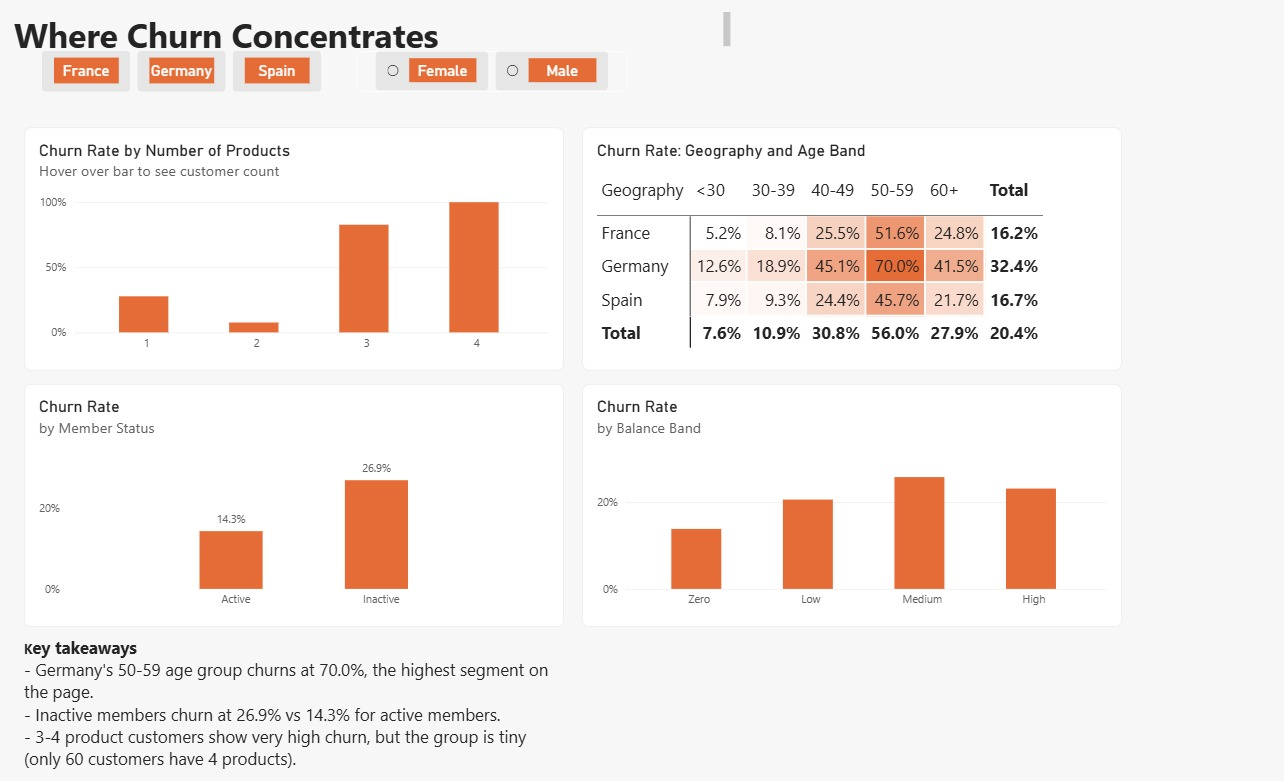

What the dashboard file says about the page in this screenshot:
{"tool":"powerbi","page":{"name":"Page 2","canvas":[1920,1080],"ordinal":1},"visuals":[{"type":"textbox","box":[18.3,16.7,796.7,43.3],"z":0},{"type":"clusteredColumnChart","title":"Churn Rate by Number of Products","fields":{"Category":["Customers.NumOfProducts"],"Y":["Customers.Churn Rate"]},"box":[30,145,600,270],"z":1000},{"type":"clusteredColumnChart","fields":{"Category":["Customers.Member Status"],"Y":["Customers.Churn Rate"]},"box":[30,430,600,270],"z":2000},{"type":"clusteredColumnChart","fields":{"Category":["Customers.Balance Band"],"Y":["Customers.Churn Rate"]},"box":[650,430,600,270],"z":3000},{"type":"pivotTable","title":"Churn Rate: Geography and Age Band ","fields":{"Rows":["Customers.Geography"],"Columns":["Customers.Age Band"],"Values":["Customers.Churn Rate"]},"box":[650,145,600,270],"z":3001},{"type":"advancedSlicerVisual","fields":{"Values":["Customers.Geography"]},"box":[30,60,350,45],"z":3002},{"type":"advancedSlicerVisual","fields":{"Values":["Customers.Gender"]},"box":[400,60,300,45],"z":3003},{"type":"textbox","box":[30,710,600,270],"z":3004}]}

Visuals, with their boxes on the page's 1920x1080 design canvas (x1, y1, x2, y2). These are canvas units, not pixel positions in the 1284x781 screenshot, which may show the page scaled, cropped or inside an application window:
textbox: 18 17 815 60
"Churn Rate by Number of Products" clusteredColumnChart: 30 145 630 415
clusteredColumnChart - Customers.Member Status x Customers.Churn Rate: 30 430 630 700
clusteredColumnChart - Customers.Balance Band x Customers.Churn Rate: 650 430 1250 700
"Churn Rate: Geography and Age Band " pivotTable: 650 145 1250 415
advancedSlicerVisual - Customers.Geography: 30 60 380 105
advancedSlicerVisual - Customers.Gender: 400 60 700 105
textbox: 30 710 630 980
